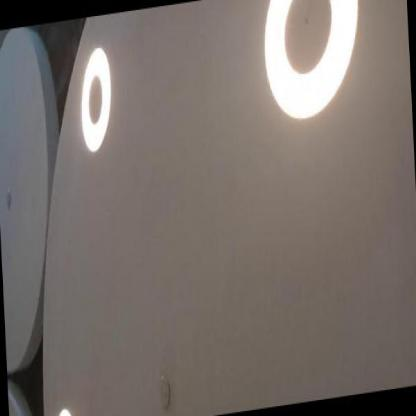light_on: (250, 0, 371, 145), (72, 26, 123, 156), (48, 384, 82, 415)
